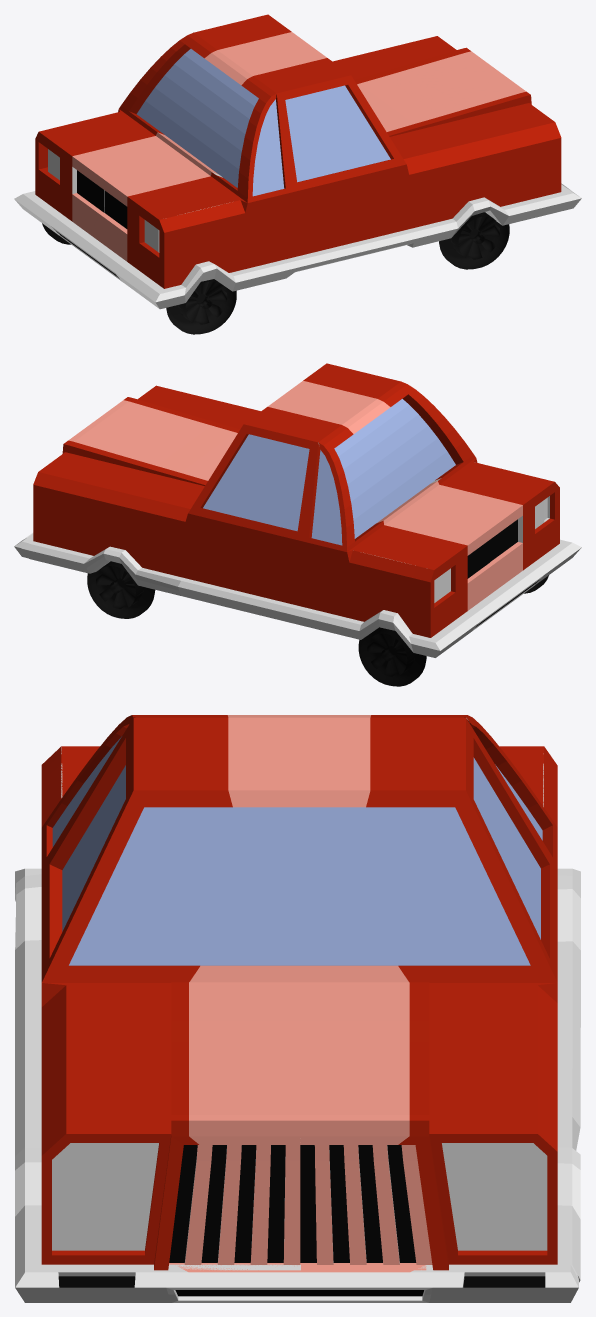
File: car belender - Copy.fbx
The picture shows the model from 3 angles, top to bottom: view 1: azimuth 30°, elevation 25°; view 2: azimuth 150°, elevation 25°; view 3: azimuth 270°, elevation 25°; orthographic projection. The views are drawn at different scales.
Visible parts, largest first — view 1: Torus; view 2: Torus; view 3: Torus.
Boxes of the visible parts, box(x1,y1,x2,y2) form: Torus: box(14, 14, 581, 334); Torus: box(14, 363, 581, 686); Torus: box(15, 715, 580, 1302).
Size of the model in its own units: 0.00926 by 0.0161 by 0.00733.
